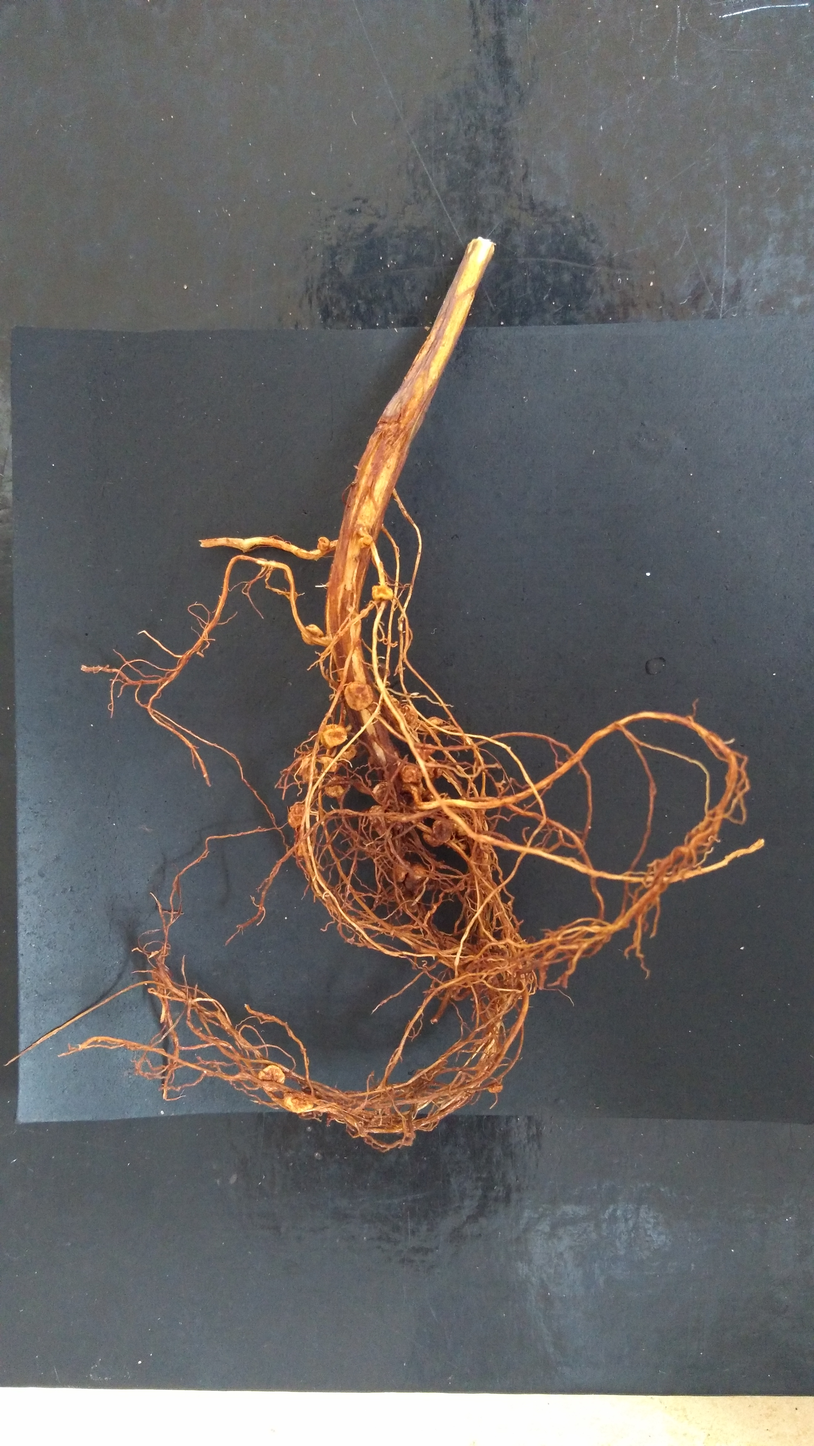nodule: (419, 819, 454, 850), (344, 679, 374, 711), (319, 722, 348, 750), (259, 1063, 284, 1093), (405, 861, 426, 896), (283, 1092, 315, 1113), (299, 622, 325, 647), (383, 692, 401, 723), (399, 762, 424, 784), (369, 582, 395, 603), (287, 801, 306, 829), (320, 781, 347, 800), (374, 780, 395, 804), (366, 662, 392, 681), (399, 703, 420, 724), (318, 755, 340, 774), (414, 739, 436, 758), (301, 761, 318, 785), (393, 858, 409, 883), (338, 743, 357, 762), (426, 761, 445, 779), (369, 805, 385, 824), (316, 535, 331, 551), (486, 1082, 504, 1094), (424, 716, 444, 726)
